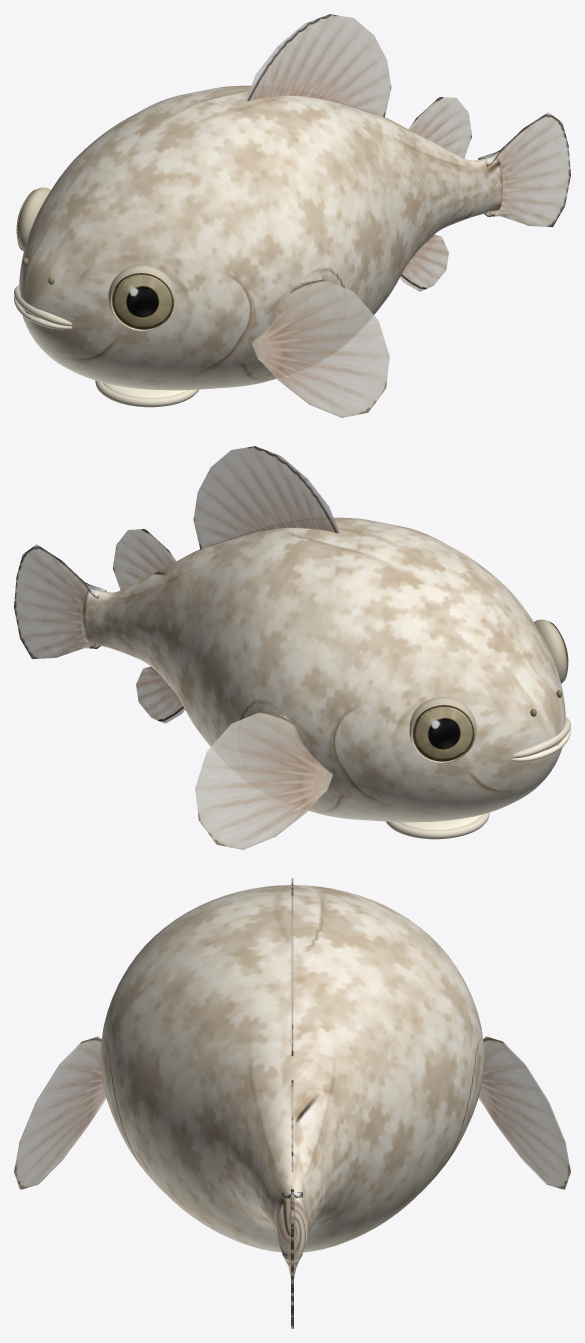
The model's file is dangouo-white.glb.
The picture shows the model from 3 angles, top to bottom: view 1: azimuth 30°, elevation 25°; view 2: azimuth 150°, elevation 25°; view 3: azimuth 270°, elevation 25°; orthographic projection. The views are drawn at different scales.
Visible parts, largest first — view 1: Body_continuous_skin, Pectoral_right, Dorsal_1, Caudal, Eye_iris_1, Dorsal_2, Anal, Pelvic_disc_rim, Eye_globe_-1, Eye_globe_1, Pelvic_disc_dish, Mouth_upper; view 2: Body_continuous_skin, Pectoral_left, Dorsal_1, Caudal, Eye_iris_-1, Dorsal_2, Anal, Pelvic_disc_rim, Eye_globe_1, Eye_globe_-1, Pelvic_disc_dish, Mouth_upper; view 3: Body_continuous_skin, Pectoral_left, Pectoral_right, Caudal.
Part boxes in pixels (x1,y1,x2,y2): Body_continuous_skin: (19, 85, 502, 390); Pectoral_right: (252, 279, 389, 417); Dorsal_1: (245, 14, 391, 117); Caudal: (478, 112, 570, 227); Eye_iris_1: (110, 273, 173, 330); Dorsal_2: (408, 97, 471, 158); Anal: (400, 234, 448, 291); Pelvic_disc_rim: (95, 380, 198, 407); Eye_globe_-1: (18, 187, 50, 251); Eye_globe_1: (108, 265, 175, 331); Pelvic_disc_dish: (103, 382, 186, 398); Mouth_upper: (14, 285, 72, 326); Body_continuous_skin: (82, 517, 565, 822); Pectoral_left: (195, 711, 332, 849); Dorsal_1: (193, 446, 339, 549); Caudal: (14, 544, 106, 659); Eye_iris_-1: (411, 705, 474, 762); Dorsal_2: (113, 529, 176, 590); Anal: (136, 666, 184, 723); Pelvic_disc_rim: (386, 812, 489, 839); Eye_globe_1: (534, 619, 566, 683); Eye_globe_-1: (409, 697, 476, 763); Pelvic_disc_dish: (398, 814, 481, 830); Mouth_upper: (512, 717, 570, 758); Body_continuous_skin: (100, 885, 484, 1260); Pectoral_left: (478, 1036, 570, 1189); Pectoral_right: (14, 1036, 106, 1189); Caudal: (282, 1189, 302, 1328).
Bounding box in the file's own units: 0.0297 × 0.0171 × 0.0224.
2 materials, 2 textured.
